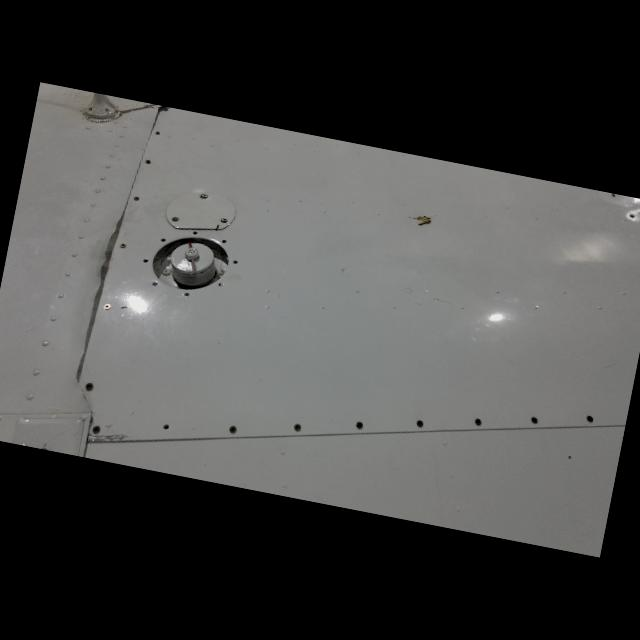Missing Fastener: (157, 421, 178, 437), (182, 290, 193, 300), (220, 237, 230, 246), (231, 258, 240, 268), (190, 229, 200, 238), (140, 258, 150, 266), (158, 236, 168, 243), (218, 280, 226, 288), (150, 280, 158, 288)
dent: (68, 196, 138, 390)
